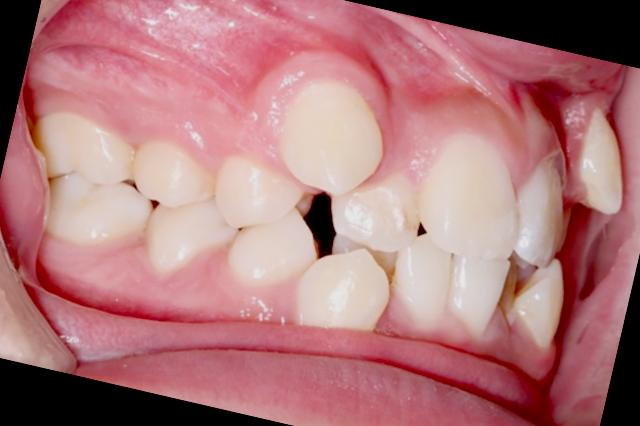canine class II 1/4: (216, 59, 436, 346)
molar class I: (0, 97, 171, 263)
